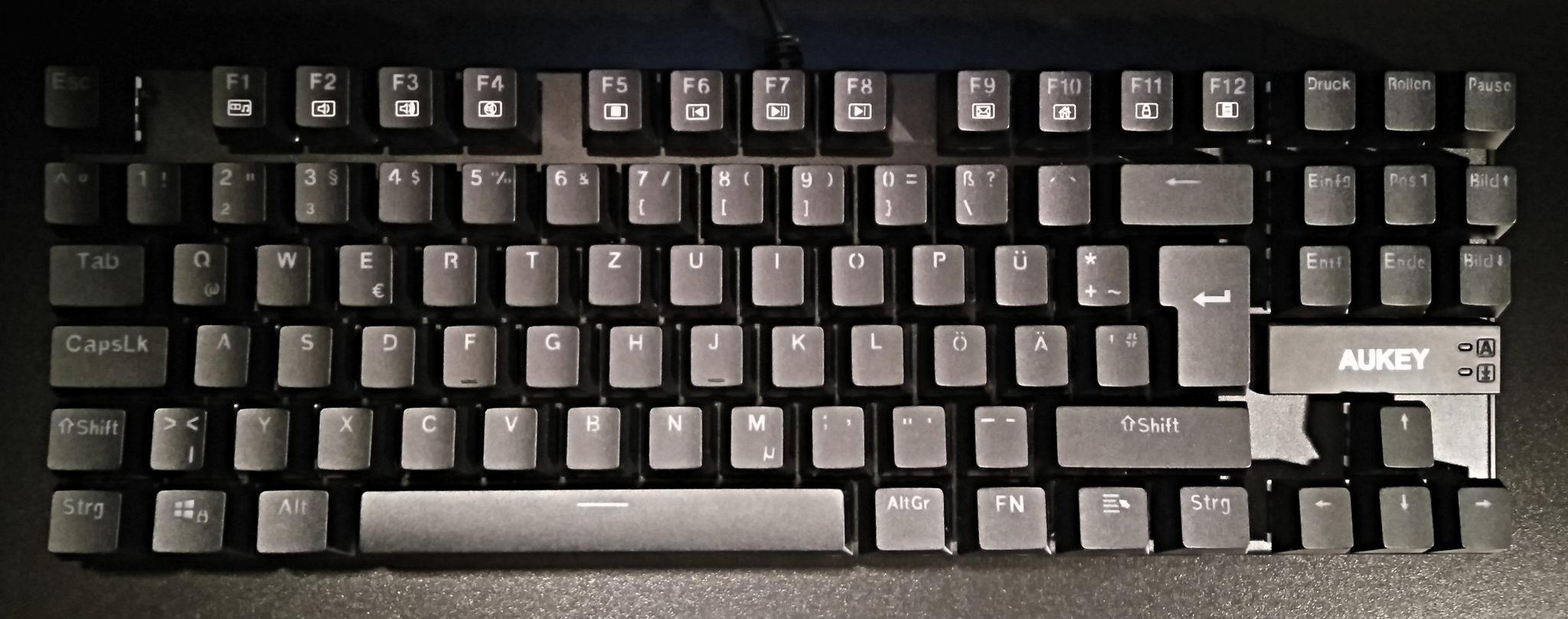0: (868, 159, 931, 226)
1: (123, 159, 183, 226)
2: (208, 158, 269, 225)
3: (289, 156, 351, 225)
4: (374, 157, 436, 224)
5: (457, 158, 518, 224)
6: (541, 158, 603, 225)
7: (625, 158, 684, 225)
8: (706, 157, 765, 226)
9: (786, 158, 848, 227)
a: (191, 321, 250, 387)
accent: (1034, 161, 1092, 225)
ae: (1011, 321, 1070, 386)
alt-left: (254, 487, 335, 554)
altgr-right: (871, 483, 949, 551)
b: (564, 402, 622, 469)
c: (398, 402, 457, 468)
caret: (41, 158, 102, 224)
comma: (809, 402, 866, 468)
d: (358, 322, 416, 386)
del: (1116, 160, 1254, 225)
e: (335, 240, 394, 307)
enter: (1156, 241, 1251, 389)
f: (441, 321, 497, 386)
g: (524, 321, 580, 386)
h: (606, 321, 665, 386)
hash: (1092, 321, 1150, 386)
i: (749, 241, 805, 305)
j: (687, 320, 744, 386)
k: (769, 320, 827, 386)
keyboard: (13, 22, 1549, 592)
l: (848, 320, 906, 386)
less: (147, 404, 207, 471)
m: (727, 402, 786, 470)
minus: (971, 402, 1031, 468)
n: (646, 402, 705, 469)
o: (828, 241, 886, 306)
oe: (932, 321, 988, 386)
p: (910, 241, 967, 305)
plus: (1072, 240, 1131, 307)
point: (890, 402, 949, 467)
q: (168, 239, 230, 307)
r: (420, 241, 479, 306)
s: (275, 321, 333, 387)
shift-left: (44, 403, 129, 471)
shift-lock: (45, 321, 172, 388)
shift-right: (1050, 402, 1251, 468)
space: (350, 484, 852, 555)
ss: (952, 160, 1010, 226)
strg-left: (44, 486, 124, 553)
strg-right: (1176, 483, 1250, 548)
t: (502, 241, 559, 306)
tab: (44, 241, 147, 307)
u: (667, 240, 724, 306)
ue: (991, 240, 1049, 307)
v: (481, 402, 538, 469)
w: (253, 240, 312, 308)
x: (314, 402, 374, 470)
y: (231, 405, 291, 471)
z: (585, 240, 642, 305)
